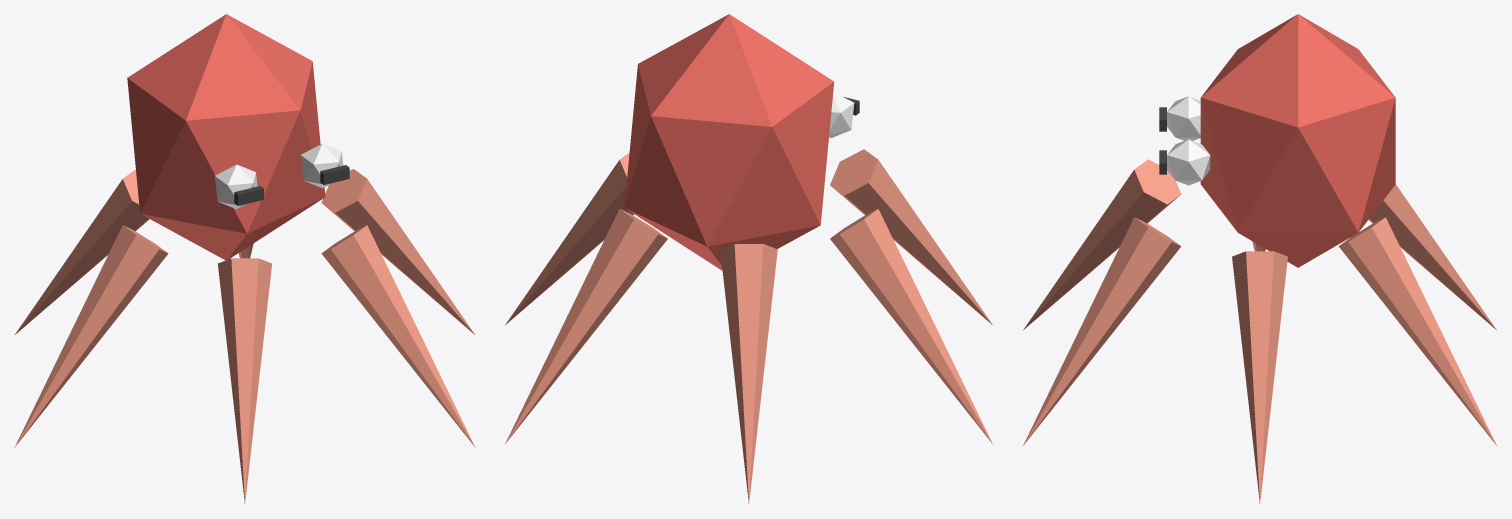
File: Octopus.fbx
3 renders of one model, left to right at view 1: azimuth 30°, elevation 25°; view 2: azimuth 150°, elevation 25°; view 3: azimuth 270°, elevation 25°, orthographic. The views are drawn at different scales.
Visible parts, largest first — view 1: Body, Limb_Tent5, Limb_Tent4, Limb_Tent6, Limb_Tent1, Limb_Tent3; view 2: Body, Limb_Tent3, Limb_Tent2, Limb_Tent4, Limb_Tent5, Limb_Tent1; view 3: Body, Limb_Tent1, Limb_Tent6, Limb_Tent2, Limb_Tent5, Limb_Tent3.
Boxes of the visible parts, bbox=[...] form: Body: bbox=[127, 14, 349, 260]; Limb_Tent5: bbox=[218, 258, 271, 503]; Limb_Tent4: bbox=[14, 225, 168, 447]; Limb_Tent6: bbox=[321, 225, 475, 447]; Limb_Tent1: bbox=[321, 169, 474, 334]; Limb_Tent3: bbox=[15, 169, 149, 334]; Body: bbox=[624, 14, 859, 270]; Limb_Tent3: bbox=[720, 244, 777, 503]; Limb_Tent2: bbox=[505, 209, 667, 443]; Limb_Tent4: bbox=[830, 209, 992, 443]; Limb_Tent5: bbox=[830, 149, 992, 324]; Limb_Tent1: bbox=[505, 152, 633, 324]; Body: bbox=[1159, 14, 1395, 267]; Limb_Tent1: bbox=[1232, 251, 1287, 503]; Limb_Tent6: bbox=[1023, 217, 1181, 445]; Limb_Tent2: bbox=[1338, 217, 1496, 445]; Limb_Tent5: bbox=[1023, 159, 1181, 330]; Limb_Tent3: bbox=[1368, 184, 1496, 330].
Size of the model in its own units: 2.15 by 1.62 by 1.87.
